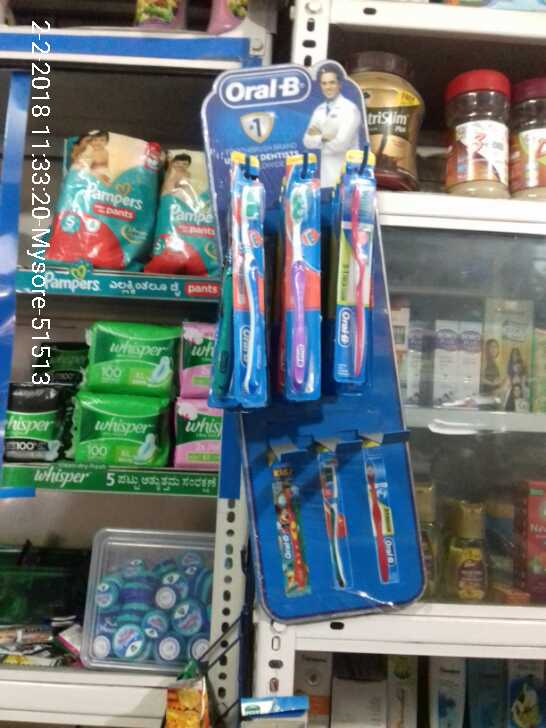pharmacy: (84, 534, 218, 674), (55, 120, 155, 282), (327, 175, 383, 392), (280, 169, 323, 402), (150, 148, 226, 279), (74, 395, 173, 470), (81, 324, 177, 398), (240, 167, 266, 399), (176, 400, 225, 475), (181, 321, 224, 403), (9, 386, 51, 463)
